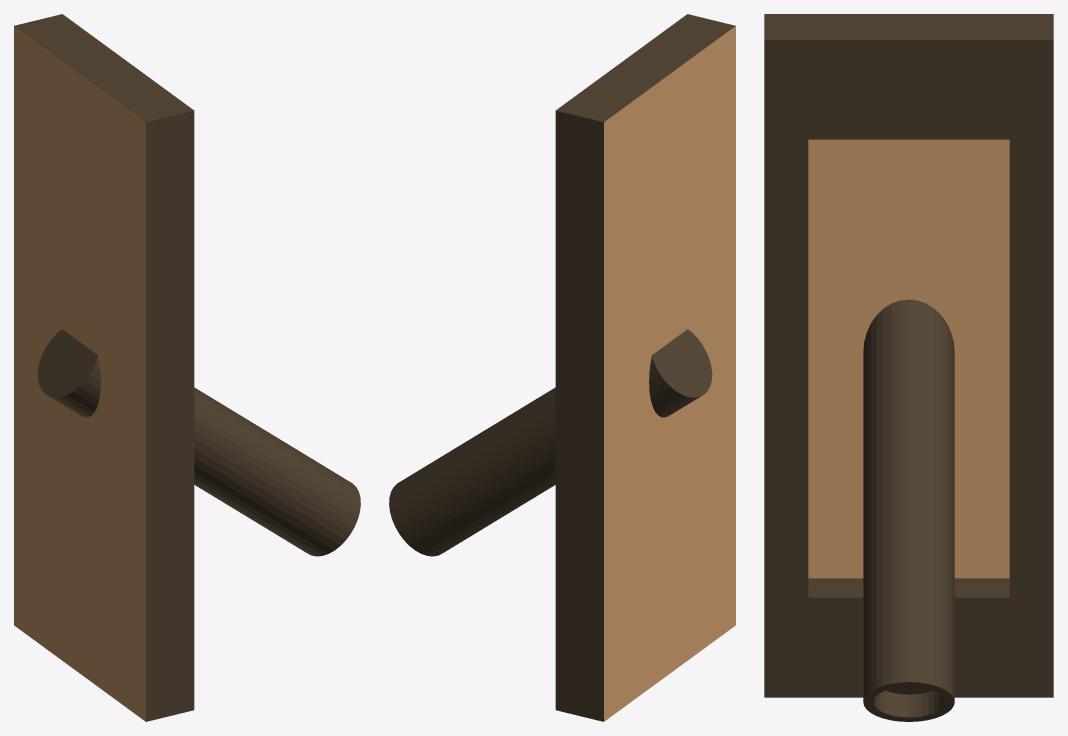
Rendered from Lever_Down.fbx.
The picture shows the model from 3 angles, left to right: view 1: azimuth 30°, elevation 25°; view 2: azimuth 150°, elevation 25°; view 3: azimuth 270°, elevation 25°; orthographic projection. The views are drawn at different scales.
Parts seen in each view (by area): view 1: Cube.001, Cylinder; view 2: Cube.001, Cylinder; view 3: Cube.001, Cylinder.
Part boxes in pixels (x1,y1,x2,y2): Cube.001: (14, 14, 194, 721); Cylinder: (37, 329, 360, 556); Cube.001: (555, 14, 735, 721); Cylinder: (389, 329, 712, 556); Cube.001: (764, 14, 1053, 697); Cylinder: (863, 299, 954, 721).
Bounding box in the file's own units: 68.78 × 128 × 51.19.
